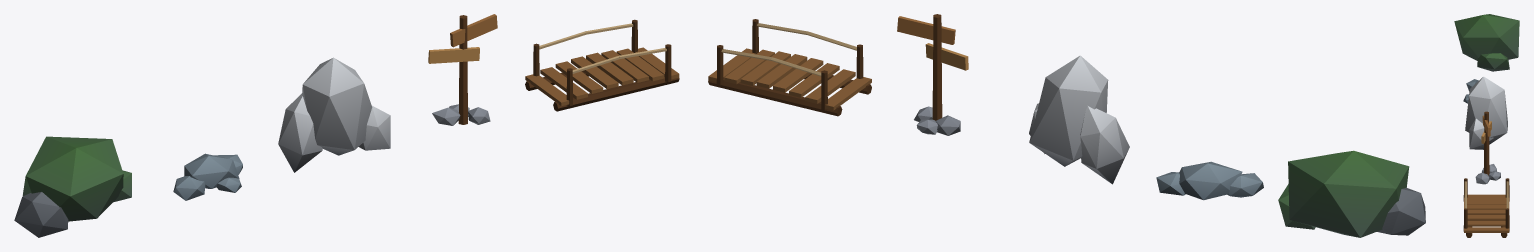
The model's file is mountain_rocks.glb.
3 views of the same model, side by side, from view 1: azimuth 30°, elevation 25°; view 2: azimuth 150°, elevation 25°; view 3: azimuth 270°, elevation 25° (orthographic). The views are drawn at different scales.
Visible parts, largest first — view 1: CliffBoulderLarge, SnowyPeakCrag, WoodenTrailBridge, TrailSignpost, RiverStoneCluster; view 2: CliffBoulderLarge, SnowyPeakCrag, WoodenTrailBridge, TrailSignpost, RiverStoneCluster; view 3: CliffBoulderLarge, SnowyPeakCrag, WoodenTrailBridge, TrailSignpost, RiverStoneCluster.
Part boxes in pixels (<box>): CliffBoulderLarge: <box>14,136,131,237</box>; SnowyPeakCrag: <box>278,57,390,172</box>; WoodenTrailBridge: <box>525,19,679,111</box>; TrailSignpost: <box>428,14,497,125</box>; RiverStoneCluster: <box>173,153,242,200</box>; CliffBoulderLarge: <box>1278,150,1425,237</box>; SnowyPeakCrag: <box>1029,55,1129,184</box>; WoodenTrailBridge: <box>708,19,871,116</box>; TrailSignpost: <box>897,14,968,135</box>; RiverStoneCluster: <box>1156,161,1263,200</box>; CliffBoulderLarge: <box>1454,14,1519,71</box>; SnowyPeakCrag: <box>1465,76,1507,149</box>; WoodenTrailBridge: <box>1463,178,1509,237</box>; TrailSignpost: <box>1475,111,1500,184</box>; RiverStoneCluster: <box>1463,79,1478,103</box>.
Size of the model in its own units: 11.31 by 1.93 by 1.56.
